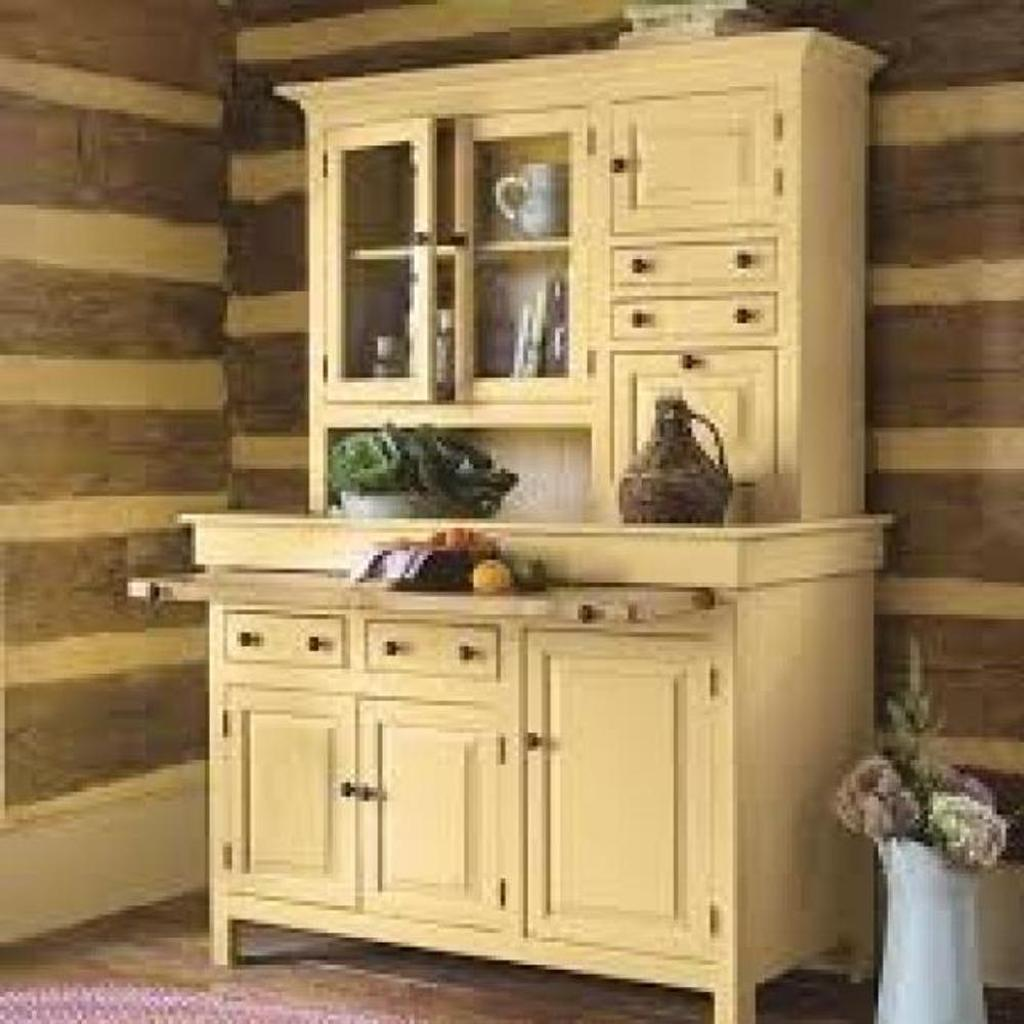cabinet: (159, 32, 887, 1024)
